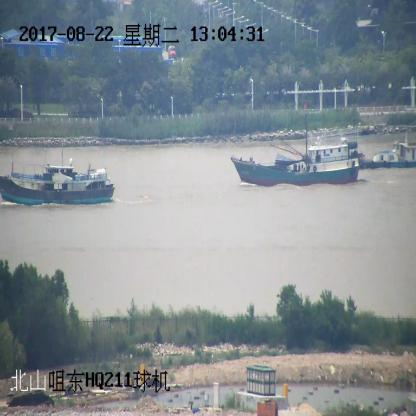Fishing Boat: (231, 108, 362, 182), (0, 157, 117, 202), (359, 135, 416, 170)
